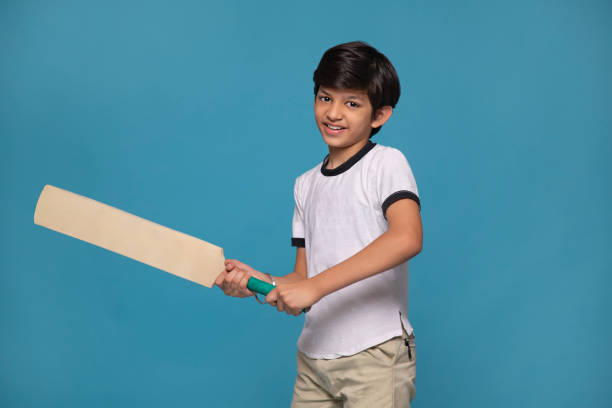bottom left: (34, 172, 59, 197)
bottom right: (25, 207, 50, 232)
top left: (211, 239, 232, 260)
top right: (198, 275, 224, 301)
